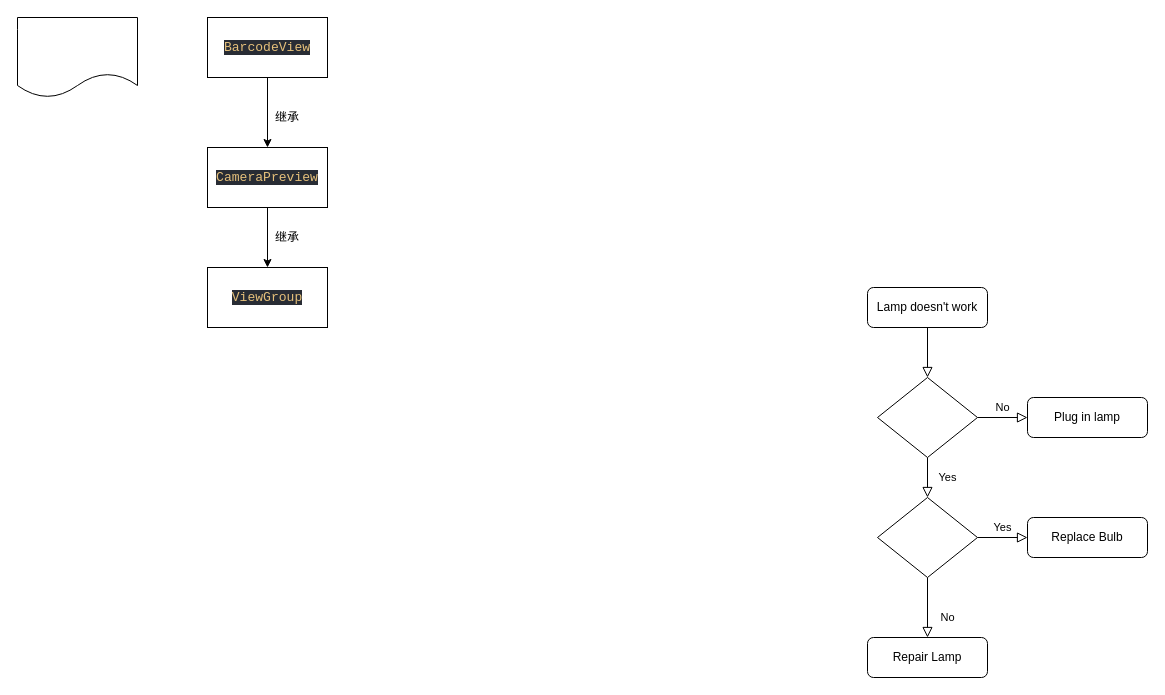
Image size: 1165x695. Some labels were removed from this diagram. The centre of each missing label's shape, as x and y in pixels:
"Bulb burned out?" belongs at point (927, 537).
"Lamp plugged in?" belongs at point (927, 417).
"开启摄像机" belongs at point (77, 57).
